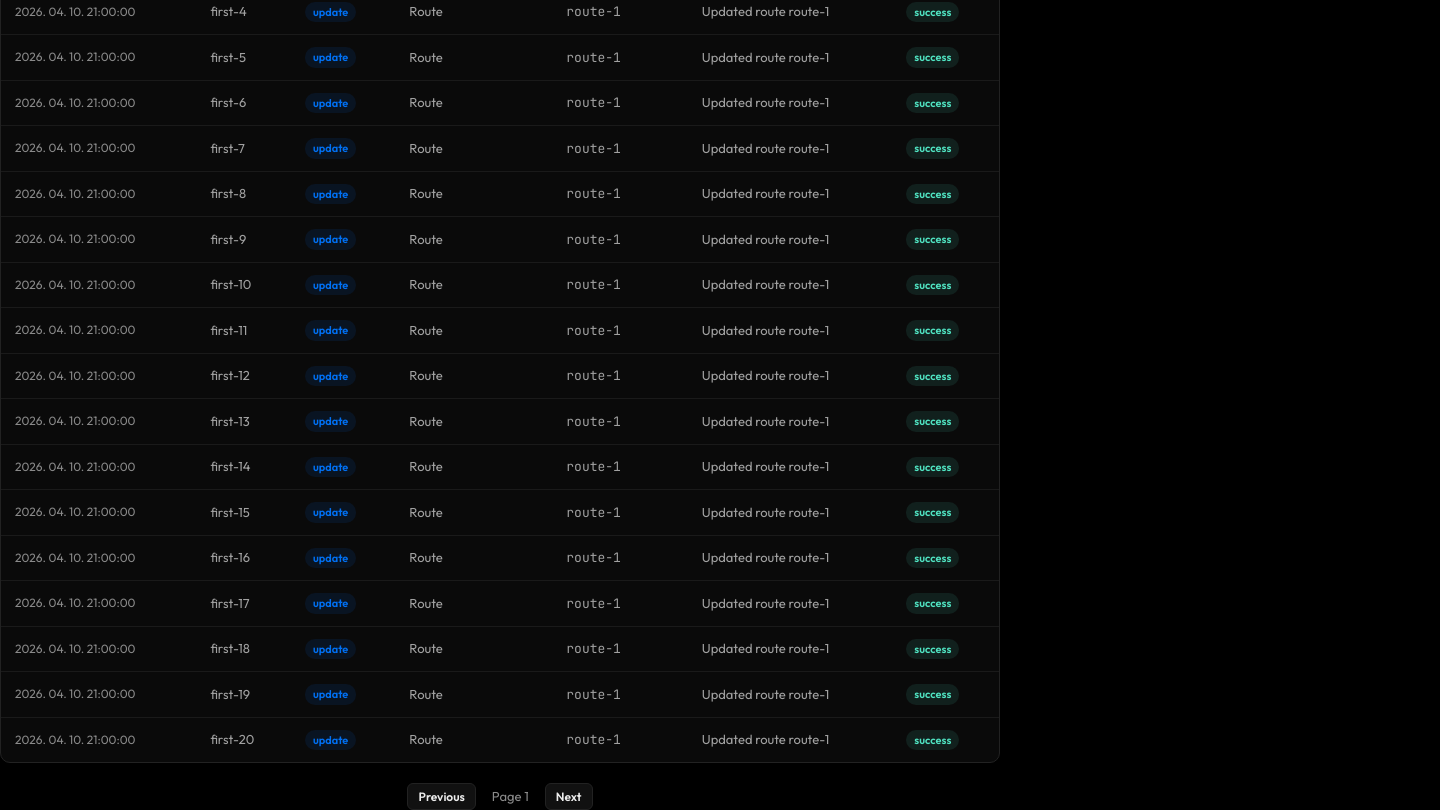
AdminAuditLogs › navigates forward and back through full pages
The image size is (1440, 810).
(page scrolled)
Click the button with aria-label "Next page" at {"x": 569, "y": 796}, box 545,783 -> 592,809
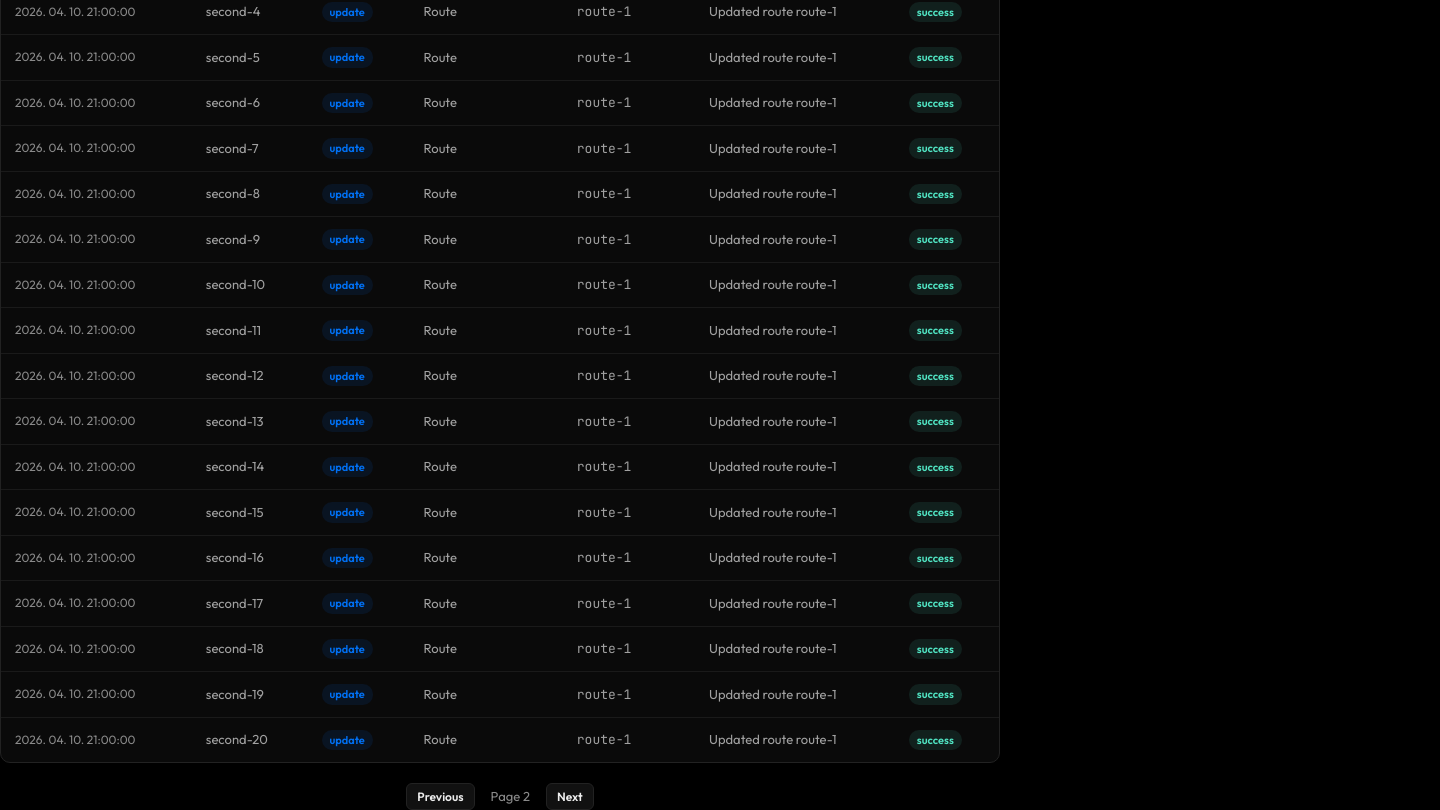
Expected: the message reads "Page 2", 491,788 -> 530,804
Click the button with aria-label "Previous page" at {"x": 440, "y": 796}, box 406,783 -> 475,809
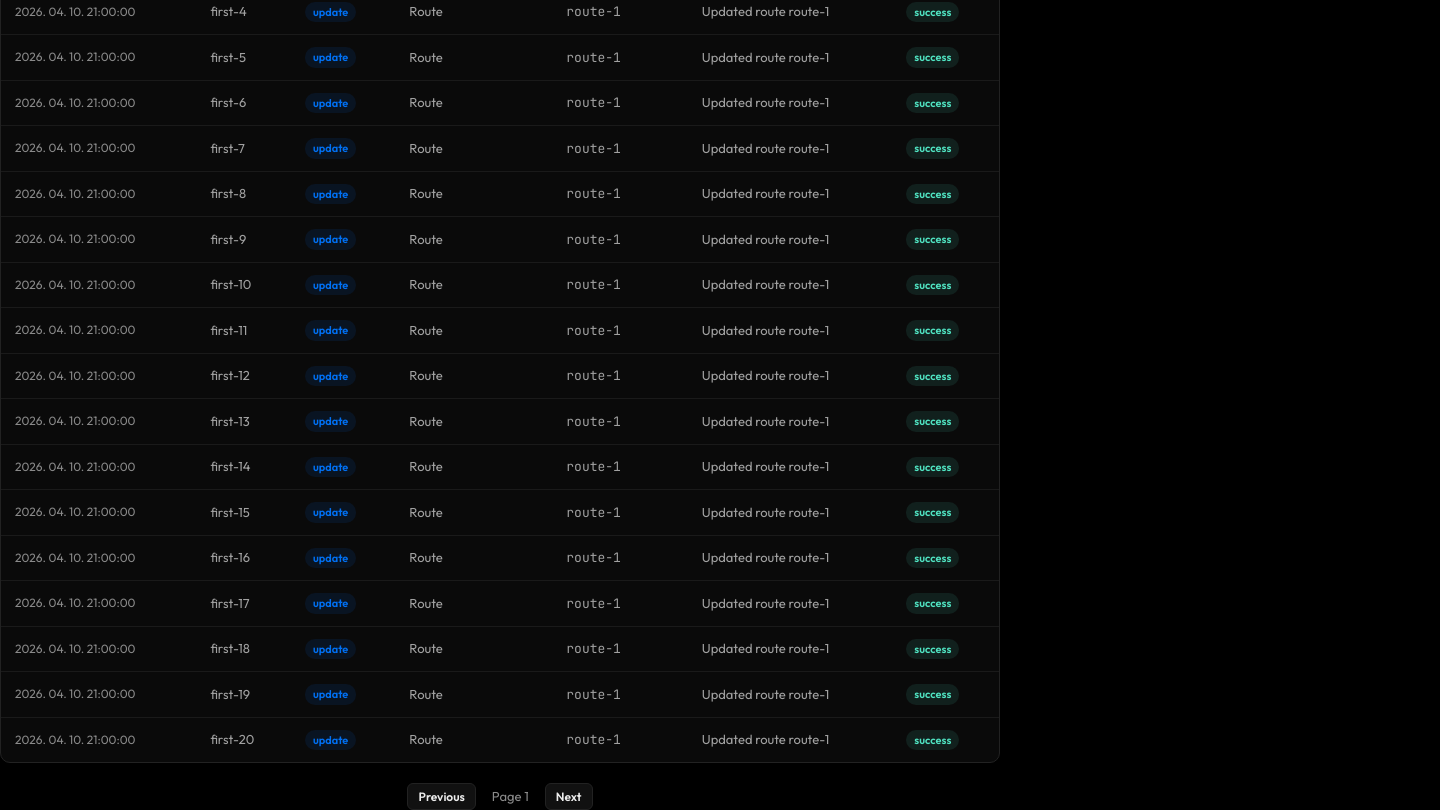
Expected: the message reads "Page 1", 492,788 -> 529,804
